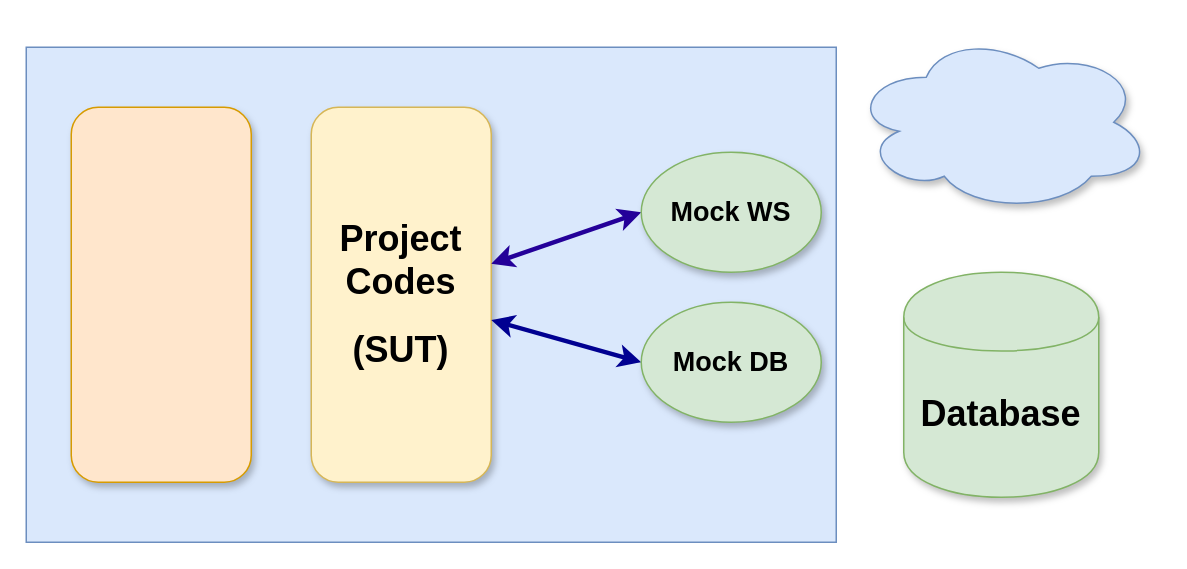
Image size: 1187x569. Some labels were removed from this diagram. The shapes that lost their labels are listed below. From the top down, each one's centre as x and y in pixels, then its label:
At (1002,124): "Web Service".
At (162,296): "Unit Tests".
